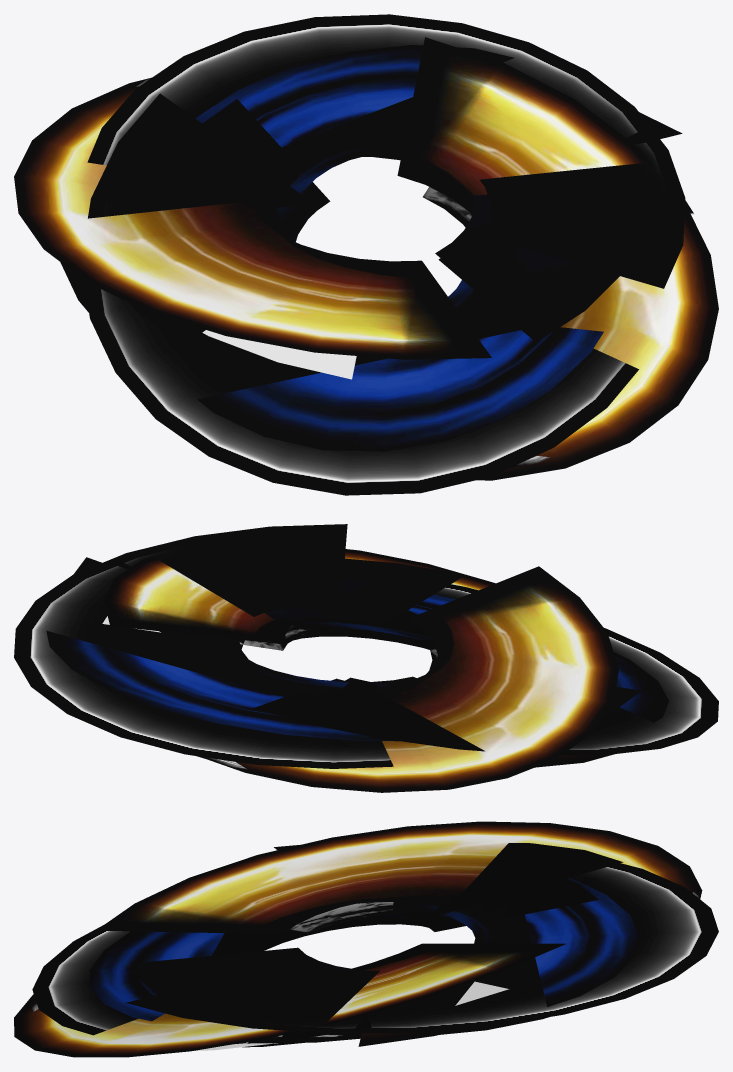
The model's file is slfs_dazhao_01.fbx.
3 renders of one model, top to bottom at view 1: azimuth 30°, elevation 25°; view 2: azimuth 150°, elevation 25°; view 3: azimuth 270°, elevation 25°, orthographic. The views are drawn at different scales.
Visible parts, largest first — view 1: DG_07 (×2), DG_08 (×2), DG_01 (×2), DG_04 (×2), DG_06 (×2); view 2: DG_07 (×2), DG_08 (×2), DG_01 (×2), DG_04 (×2), DG_05, DG_06; view 3: DG_08 (×2), DG_07 (×2), DG_01 (×2), DG_06 (×2), DG_04 (×2), DG_05.
Part boxes in pixels (<box>): DG_07 (×2): <box>84,14,685,495</box>; DG_08 (×2): <box>14,37,718,480</box>; DG_01 (×2): <box>195,45,604,451</box>; DG_04 (×2): <box>202,99,619,342</box>; DG_06 (×2): <box>136,78,693,467</box>; DG_07 (×2): <box>14,524,718,768</box>; DG_08 (×2): <box>73,549,618,792</box>; DG_01 (×2): <box>46,560,668,741</box>; DG_04 (×2): <box>252,558,466,720</box>; DG_05: <box>293,630,435,747</box>; DG_06: <box>102,616,343,650</box>; DG_08 (×2): <box>14,821,702,1057</box>; DG_07 (×2): <box>32,843,718,1043</box>; DG_01 (×2): <box>89,878,638,1021</box>; DG_06 (×2): <box>32,892,699,1050</box>; DG_04 (×2): <box>126,879,598,1036</box>; DG_05: <box>242,876,598,1047</box>.
Bounding box in the file's own units: 7.82 × 2.17 × 9.02.
